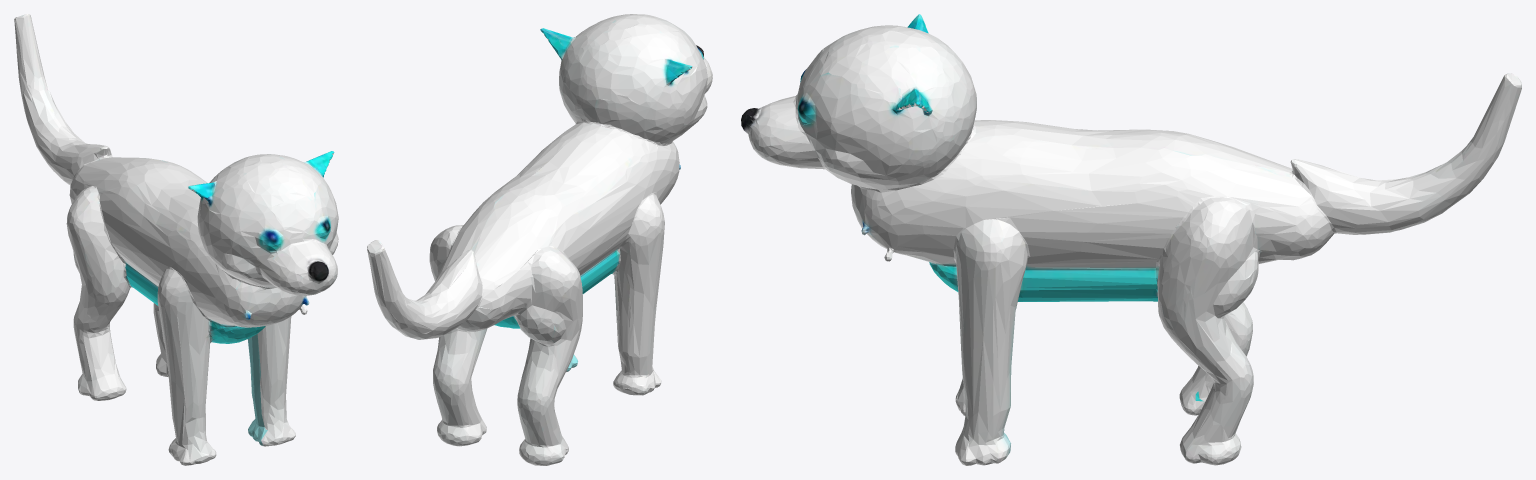
Rendered from creature-129.lod.glb.
The picture shows the model from 3 angles, left to right: view 1: azimuth 30°, elevation 25°; view 2: azimuth 150°, elevation 25°; view 3: azimuth 270°, elevation 25°; orthographic projection. The views are drawn at different scales.
Parts seen in each view (by area): view 1: tmpxd7f03p9.ply; view 2: tmpxd7f03p9.ply; view 3: tmpxd7f03p9.ply.
Part boxes in pixels (left/top/right/bottom): tmpxd7f03p9.ply: left=14, top=14, right=338, bottom=465; tmpxd7f03p9.ply: left=367, top=14, right=712, bottom=465; tmpxd7f03p9.ply: left=741, top=14, right=1521, bottom=465.
Bounding box in the file's own units: 0.5591 × 1.13 × 1.99.
1 material, 1 textured.
